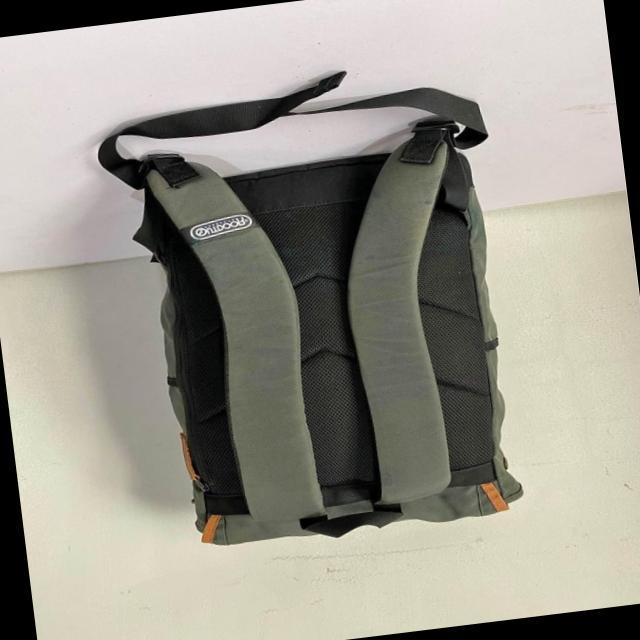bag: (89, 72, 524, 532)
